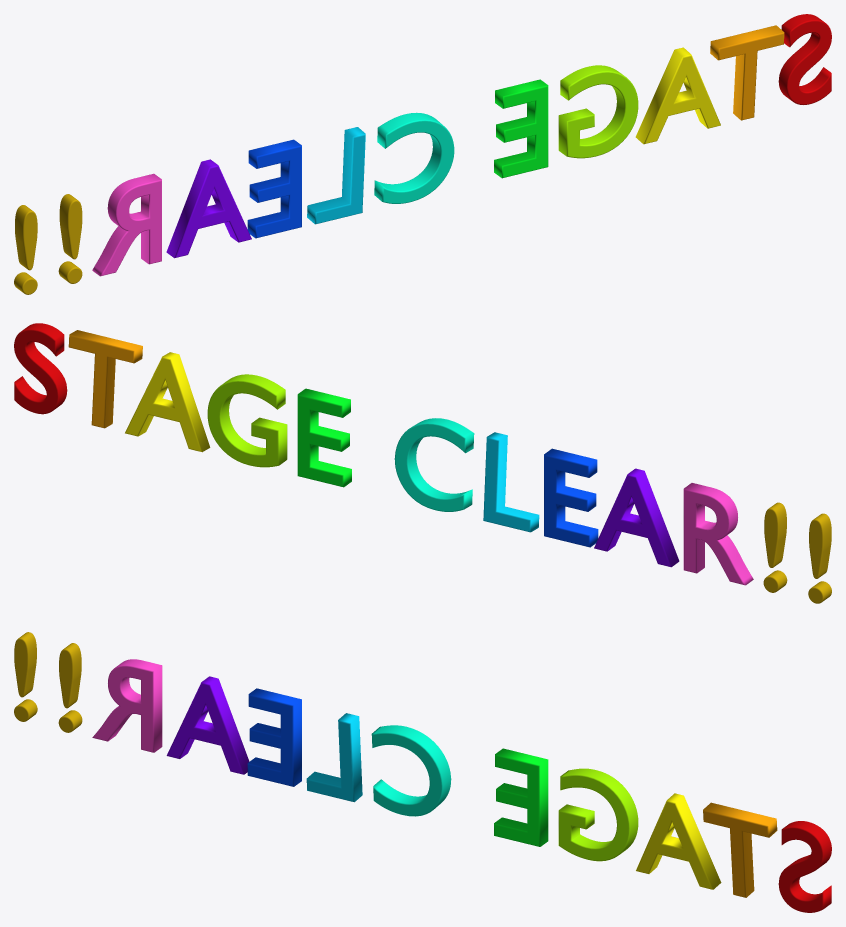
File: ClearTextobj.obj
3 renders of one model, top to bottom at view 1: azimuth 30°, elevation 25°; view 2: azimuth 150°, elevation 25°; view 3: azimuth 330°, elevation 25°, orthographic.
Parts seen in each view (by area): view 1: テキスト.003, テキスト.009, テキスト.004, テキスト.007, テキスト.008, テキスト.005, テキスト.002, テキスト.001, テキスト, テキスト.006, テキスト.010, テキスト.012; view 2: テキスト.003, テキスト.009, テキスト.004, テキスト.007, テキスト.002, テキスト.008, テキスト.005, テキスト.001, テキスト, テキスト.006, テキスト.012, テキスト.010; view 3: テキスト.003, テキスト.009, テキスト.004, テキスト.007, テキスト.005, テキスト.008, テキスト.002, テキスト.001, テキスト, テキスト.006, テキスト.012, テキスト.010.
Boxes of the visible parts, box(x1,y1,x2,y2) form: テキスト.003: box(558, 65, 638, 158); テキスト.009: box(92, 173, 161, 276); テキスト.004: box(494, 79, 548, 178); テキスト.007: box(247, 139, 301, 238); テキスト.008: box(166, 159, 251, 258); テキスト.005: box(374, 112, 454, 203); テキスト.002: box(635, 47, 720, 144); テキスト.001: box(778, 14, 831, 104); テキスト: box(710, 25, 784, 120); テキスト.006: box(307, 127, 365, 224); テキスト.010: box(58, 194, 82, 283); テキスト.012: box(14, 205, 37, 294); テキスト.003: box(207, 374, 287, 467); テキスト.009: box(683, 483, 753, 585); テキスト.004: box(297, 388, 351, 487); テキスト.007: box(544, 448, 598, 547); テキスト.002: box(125, 352, 210, 452); テキスト.008: box(594, 468, 679, 567); テキスト.005: box(394, 418, 474, 511); テキスト.001: box(14, 323, 67, 414); テキスト: box(68, 330, 142, 428); テキスト.006: box(483, 432, 539, 532); テキスト.012: box(808, 513, 831, 603); テキスト.010: box(763, 502, 787, 592); テキスト.003: box(558, 768, 638, 861); テキスト.009: box(92, 659, 162, 752); テキスト.004: box(494, 748, 548, 846); テキスト.007: box(247, 688, 301, 786); テキスト.005: box(371, 725, 451, 816); テキスト.008: box(166, 676, 249, 774); テキスト.002: box(636, 793, 721, 889); テキスト.001: box(778, 821, 831, 912); テキスト: box(703, 802, 777, 897); テキスト.006: box(306, 713, 362, 802); テキスト.012: box(14, 632, 37, 721); テキスト.010: box(58, 643, 82, 732).
Bounding box in the file's own units: 7.27 × 0.7269 × 0.2.
